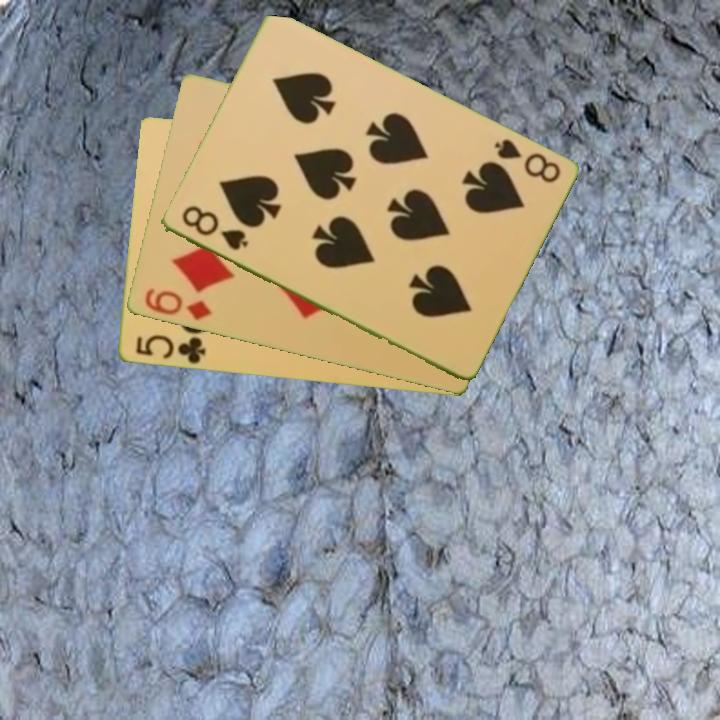5c: (132, 331, 208, 367)
6d: (140, 285, 214, 324)
8s: (177, 202, 251, 254), (490, 135, 563, 186)
